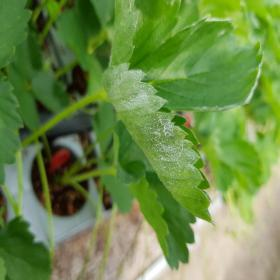Powdery Mildew Leaf: (101, 62, 215, 226), (132, 14, 264, 112), (108, 0, 181, 69)
